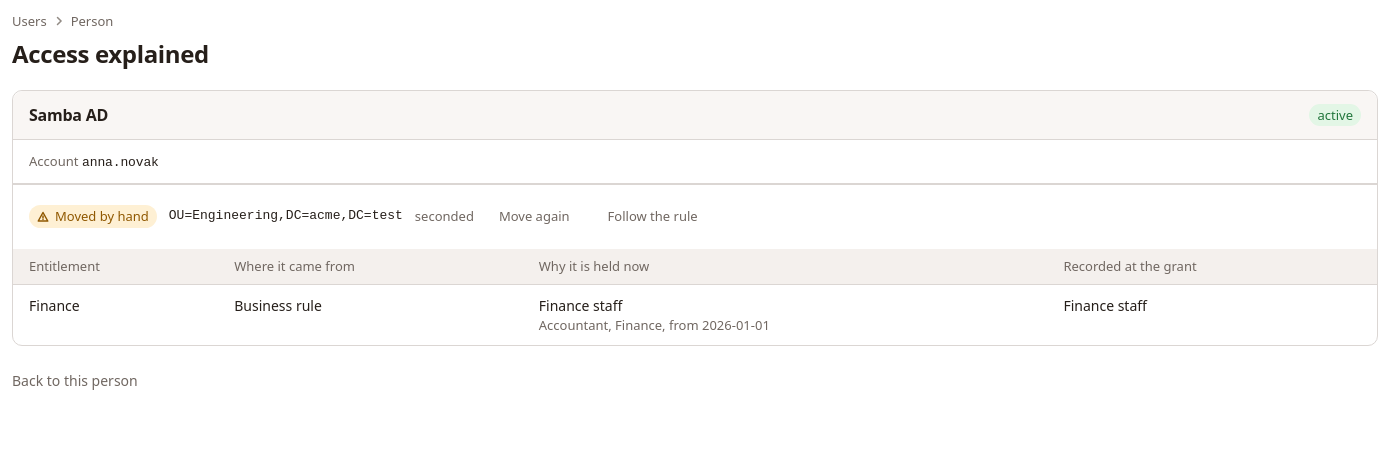
Test: the placement control › offers to hand the person back to the rule
This screenshot has width=1378, height=466.
Step 1. Click the button "Follow the rule" → (653, 217), box [595,201,711,233]
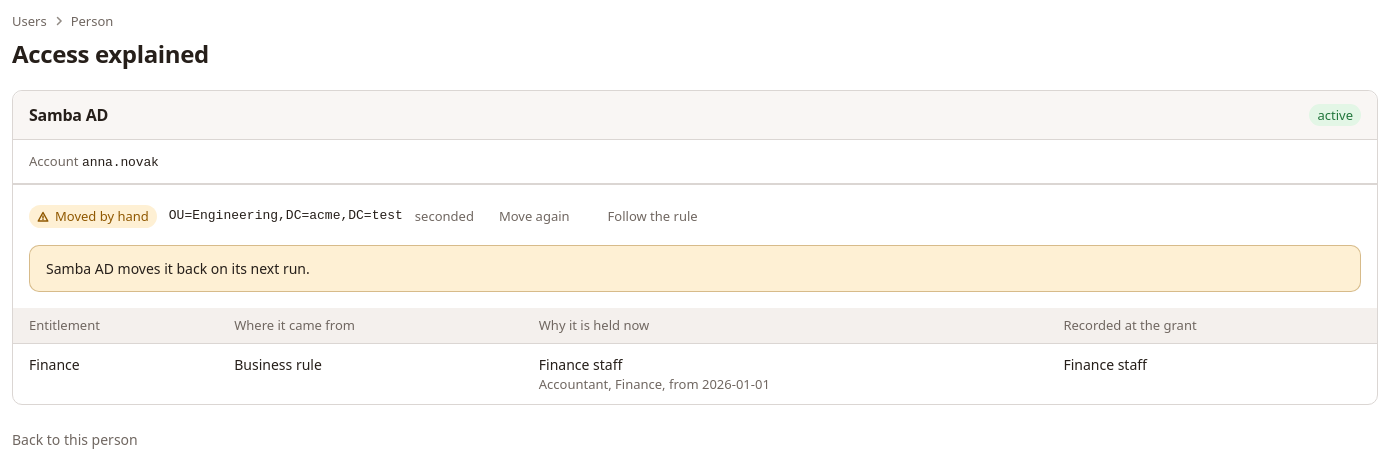
Now the text "Samba AD moves it back on its next run." is shown, box [46,259,310,278]
